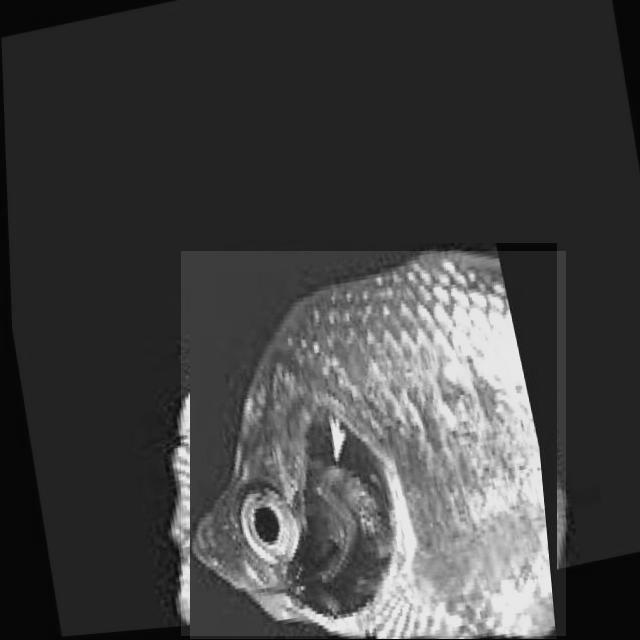Gill Disease: (181, 251, 566, 636)
